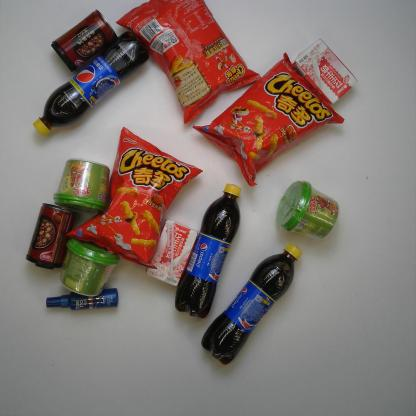Canned Food: (46, 6, 121, 74), (21, 200, 81, 272)
Drink: (197, 242, 305, 367), (30, 30, 152, 136), (170, 180, 244, 320)
Instant Drink: (273, 176, 341, 243), (53, 235, 122, 299), (50, 154, 114, 216)
Milk: (291, 36, 360, 107), (141, 216, 200, 289)
Personal Hygiene: (42, 285, 123, 315)
Puffed Food: (191, 49, 346, 189), (62, 122, 205, 270), (114, 1, 263, 126)
